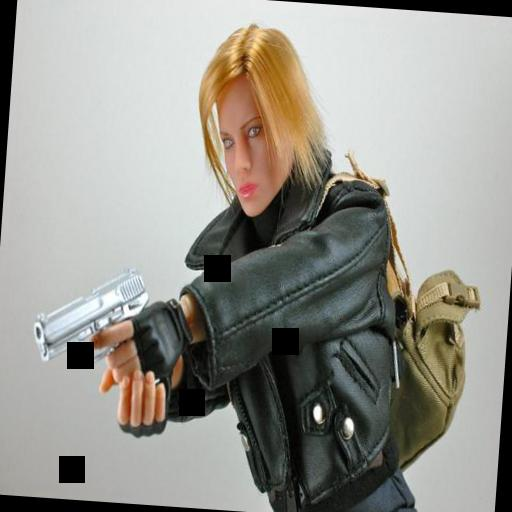Handgun: (20, 248, 162, 410)
